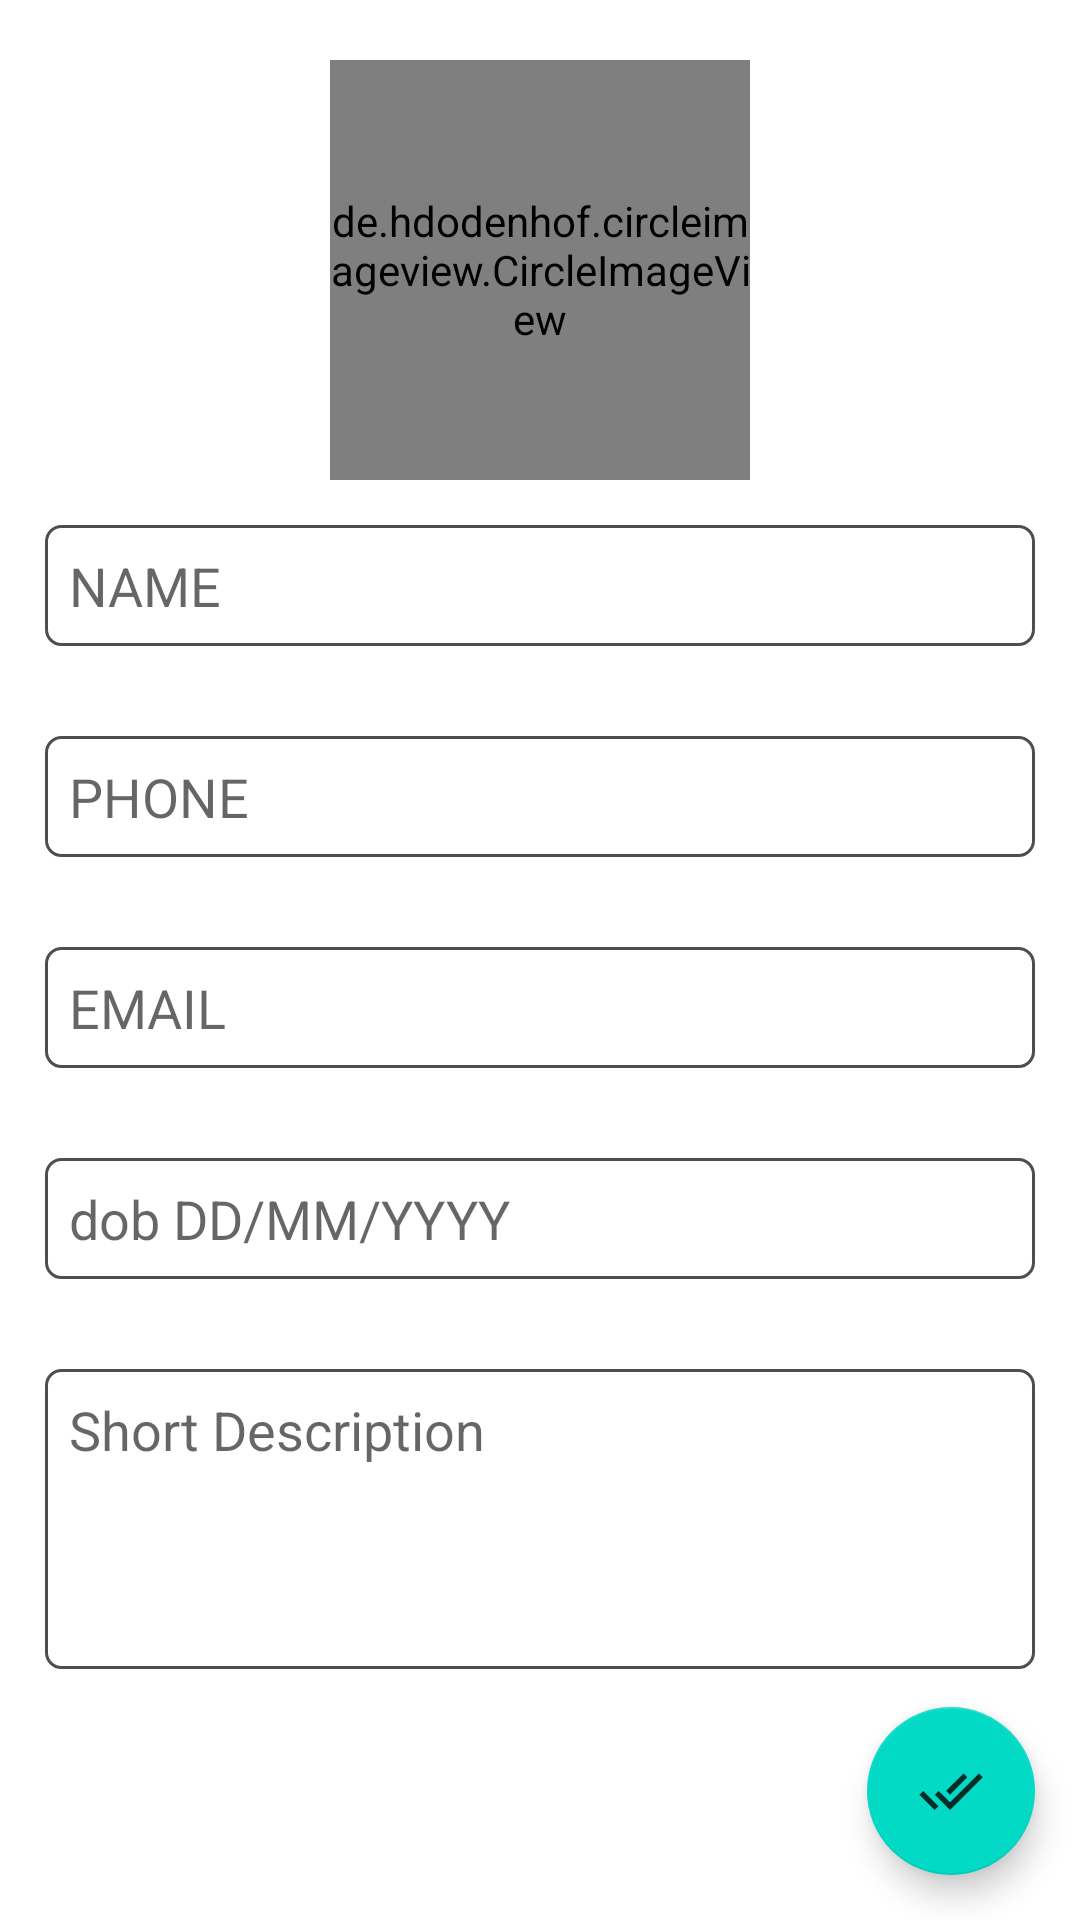

Point at icon controls on the screen. Image size 1080 × 1920, points as [x,y].
done: [951,1791]
